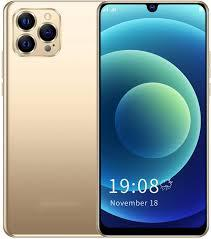Smartphone: (99, 2, 207, 233), (8, 4, 97, 232)
